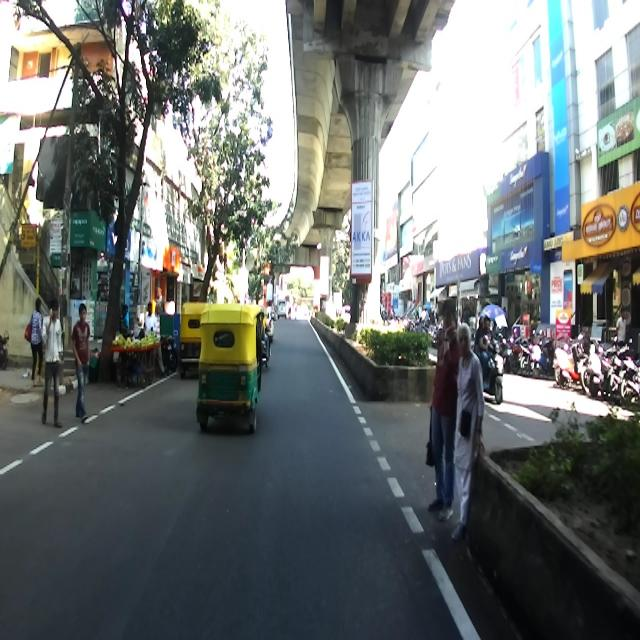autorickshaw: (196, 301, 262, 429)
scooter: (472, 331, 504, 402)
